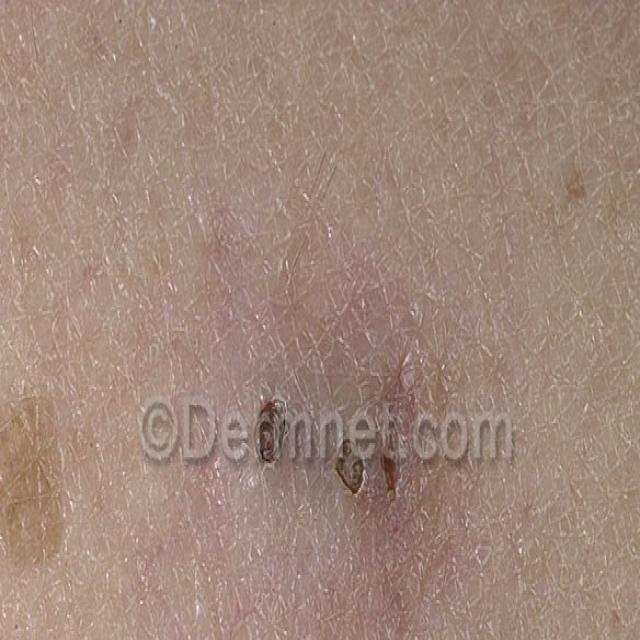Acne: (248, 357, 452, 558), (0, 361, 95, 623), (545, 145, 609, 231)
